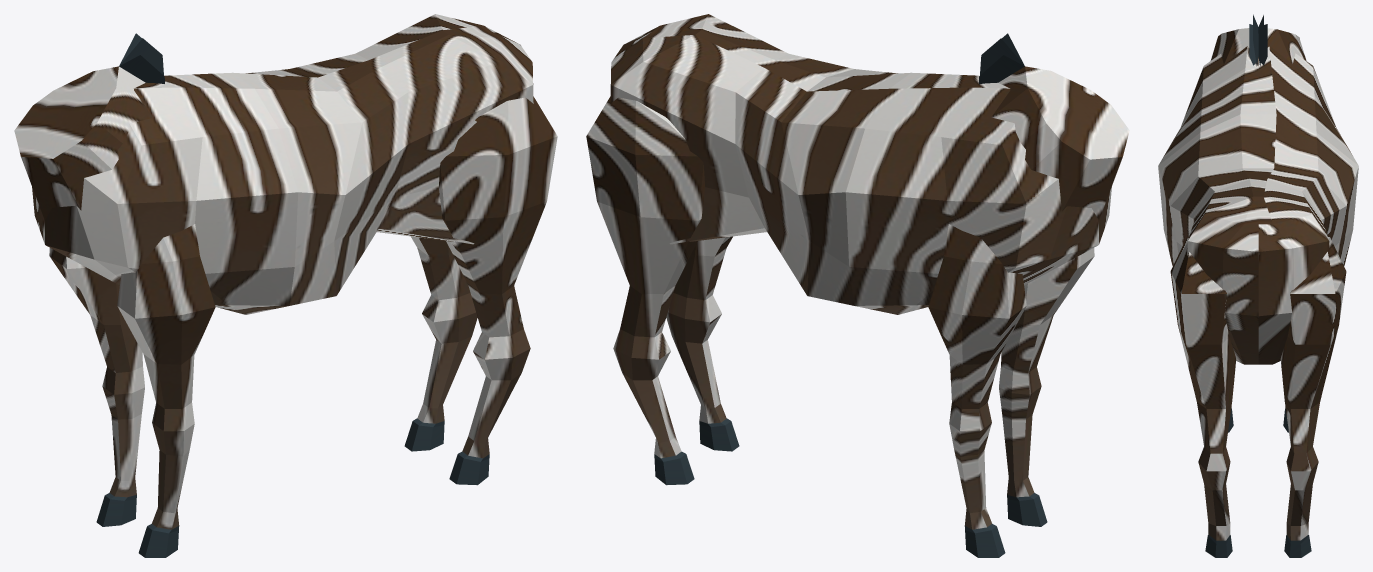
Rendered from SM_Zebre_Body.fbx.
The picture shows the model from 3 angles, left to right: view 1: azimuth 30°, elevation 25°; view 2: azimuth 150°, elevation 25°; view 3: azimuth 270°, elevation 25°; orthographic projection. The views are drawn at different scales.
Visible parts, largest first — view 1: SM_Zebre_Body; view 2: SM_Zebre_Body; view 3: SM_Zebre_Body.
Part boxes in pixels (x1=…): SM_Zebre_Body: x1=14, y1=14, x2=557, y2=557; SM_Zebre_Body: x1=586, y1=14, x2=1129, y2=557; SM_Zebre_Body: x1=1158, y1=14, x2=1358, y2=557.
Size of the model in its own units: 71.98 by 68.95 by 30.32.
